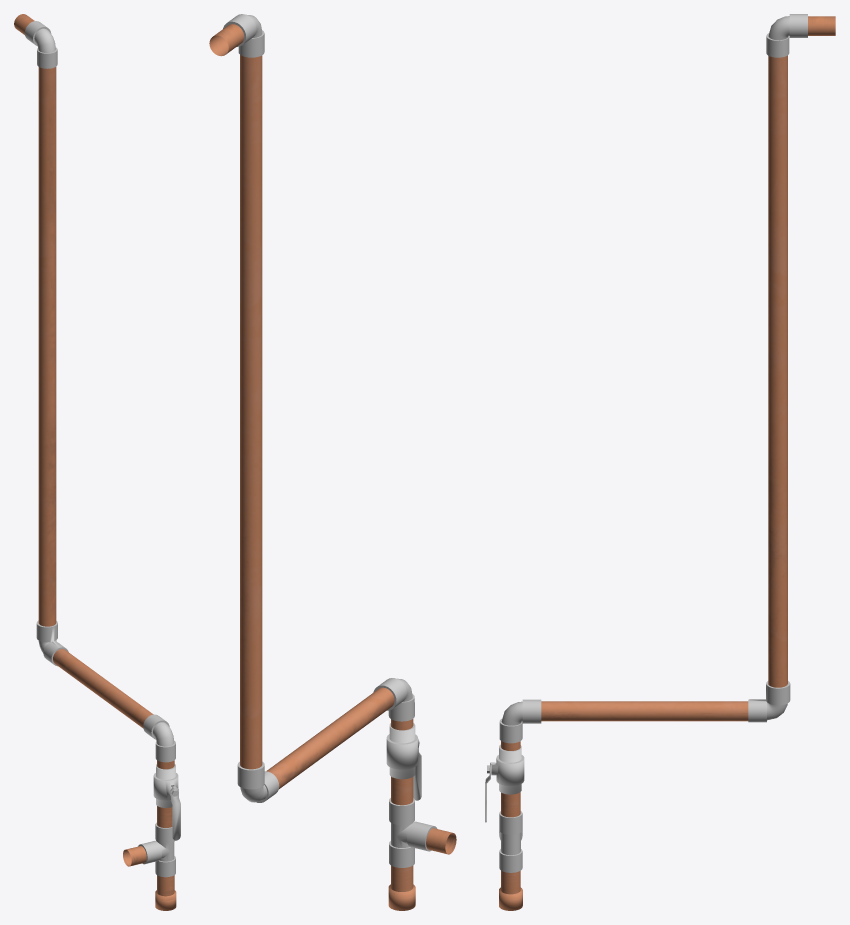
The model's file is Gas Line.fbx.
3 renders of one model, left to right at view 1: azimuth 30°, elevation 25°; view 2: azimuth 150°, elevation 25°; view 3: azimuth 270°, elevation 25°, orthographic. The views are drawn at different scales.
Visible parts, largest first — view 1: Pipe 17.007, Pipe 24.004, Tee.012, Elbow.032, Elbow.030, Ball Valve Body 1.009, Elbow.031, Pipe 17.009, Ball Valve Handle 2.001, Pipe 24.003; view 2: Pipe 17.007, Pipe 24.004, Tee.012, Ball Valve Body 1.009, Elbow.031, Elbow.030, Elbow.032, Pipe 17.009, Pipe 17.006, Pipe 24.003, Pipe 17.010, Pipe 17.008; view 3: Pipe 17.007, Pipe 24.004, Tee.012, Elbow.032, Elbow.030, Ball Valve Body 1.009, Elbow.031.
Part boxes in pixels (<box>): Pipe 17.007: <box>38,67,56,626</box>; Pipe 24.004: <box>53,649,153,727</box>; Tee.012: <box>138,822,175,877</box>; Elbow.032: <box>143,714,175,762</box>; Elbow.030: <box>24,21,57,68</box>; Ball Valve Body 1.009: <box>153,764,178,807</box>; Elbow.031: <box>36,620,68,666</box>; Pipe 17.009: <box>157,760,174,827</box>; Ball Valve Handle 2.001: <box>170,785,180,840</box>; Pipe 24.003: <box>123,846,146,866</box>; Pipe 17.007: <box>240,55,262,769</box>; Pipe 24.004: <box>266,687,394,788</box>; Tee.012: <box>389,798,437,867</box>; Ball Valve Body 1.009: <box>386,723,419,779</box>; Elbow.031: <box>237,761,279,802</box>; Elbow.030: <box>223,14,264,57</box>; Elbow.032: <box>373,678,414,721</box>; Pipe 17.009: <box>391,719,413,805</box>; Pipe 17.006: <box>209,24,244,56</box>; Pipe 24.003: <box>426,828,456,854</box>; Pipe 17.010: <box>388,884,415,910</box>; Pipe 17.008: <box>391,865,413,891</box>; Pipe 17.007: <box>768,55,787,687</box>; Pipe 24.004: <box>541,701,748,721</box>; Tee.012: <box>499,811,522,872</box>; Elbow.032: <box>499,699,541,743</box>; Elbow.030: <box>766,14,807,57</box>; Ball Valve Body 1.009: <box>487,744,524,794</box>; Elbow.031: <box>748,681,790,722</box>.
Size of the model in its own units: 14.05 by 216 by 76.83.
